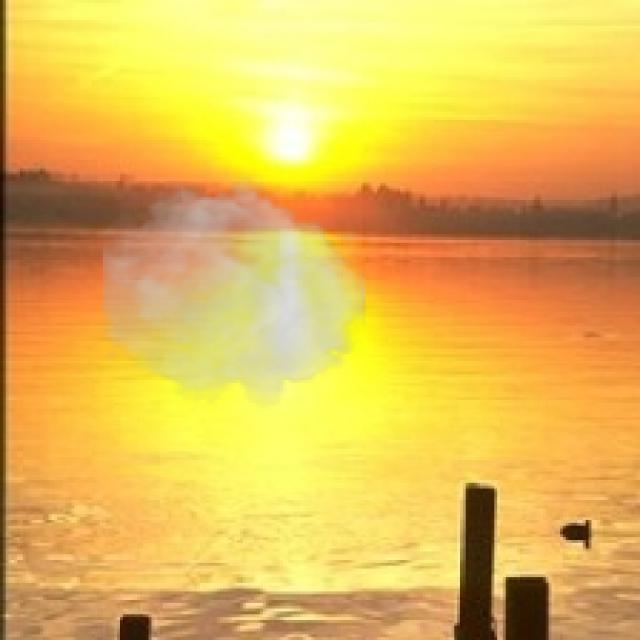smoke: (103, 174, 366, 409)
